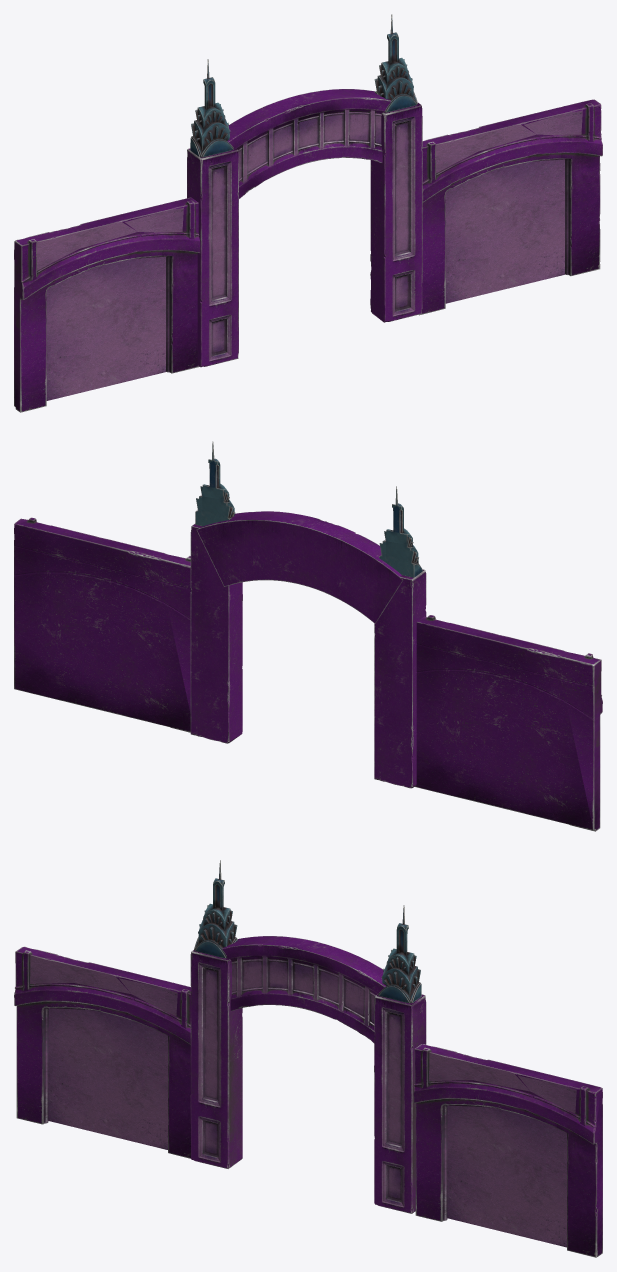
Rendered from arco.fbx.
3 views of the same model, one above another, from view 1: azimuth 30°, elevation 25°; view 2: azimuth 150°, elevation 25°; view 3: azimuth 330°, elevation 25° (orthographic).
Parts seen in each view (by area): view 1: Wall2.001; view 2: Wall2.001; view 3: Wall2.001.
Boxes of the visible parts, <box> form: Wall2.001: <box>14,14,602,412</box>; Wall2.001: <box>14,441,602,831</box>; Wall2.001: <box>14,860,602,1257</box>.
Bounding box in the file's own units: 8849 × 4370 × 378.
